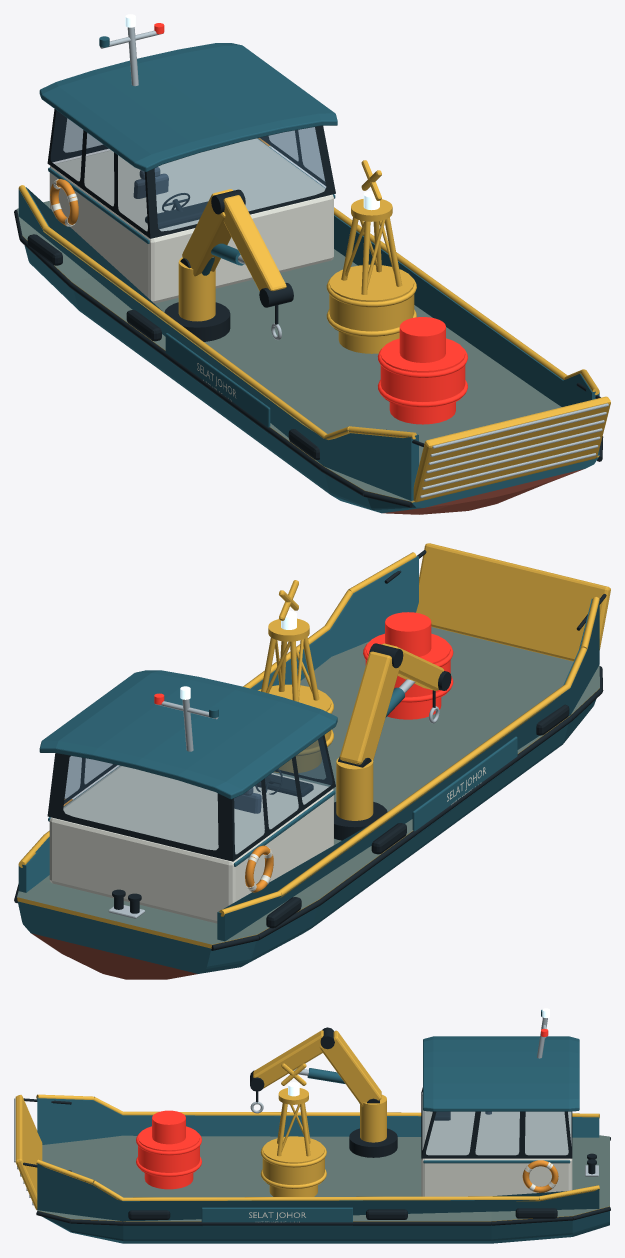
The picture shows the model from 3 angles, top to bottom: view 1: azimuth 30°, elevation 25°; view 2: azimuth 150°, elevation 25°; view 3: azimuth 270°, elevation 25°; orthographic projection. The views are drawn at different scales.
Parts seen in each view (by area): view 1: Johor Buoy Service Tender; view 2: Johor Buoy Service Tender; view 3: Johor Buoy Service Tender.
Part boxes in pixels (bbox=[...]): Johor Buoy Service Tender: bbox=[14, 14, 610, 514]; Johor Buoy Service Tender: bbox=[14, 543, 610, 979]; Johor Buoy Service Tender: bbox=[14, 1008, 610, 1243].
Size of the model in its own units: 3.82 by 4.04 by 10.57.
